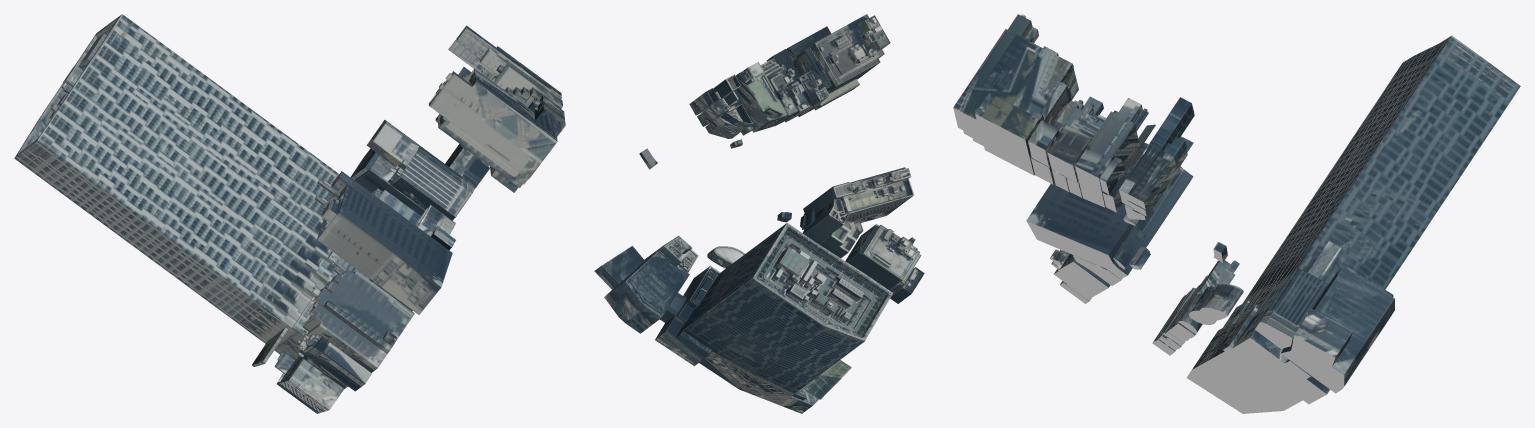
Rendered from l2_data504.glb.
The picture shows the model from 3 angles, left to right: view 1: azimuth 30°, elevation 25°; view 2: azimuth 150°, elevation 25°; view 3: azimuth 270°, elevation 25°; orthographic projection. The views are drawn at different scales.
Size of the model in its own units: 220 by 212 by 266.
Materials: 2 (1 with a texture image).
